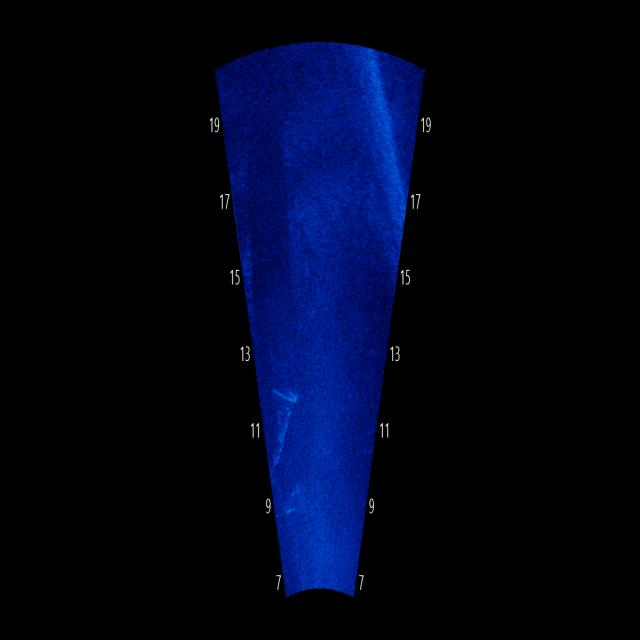triangle: (264, 374, 302, 476)
